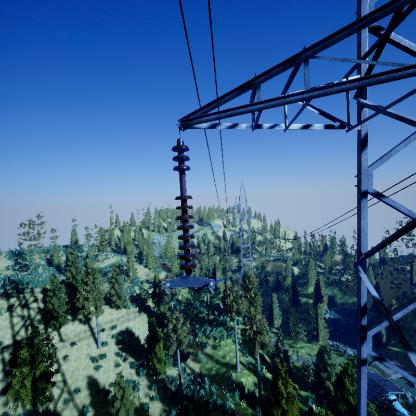insulator: (169, 143, 201, 274)
